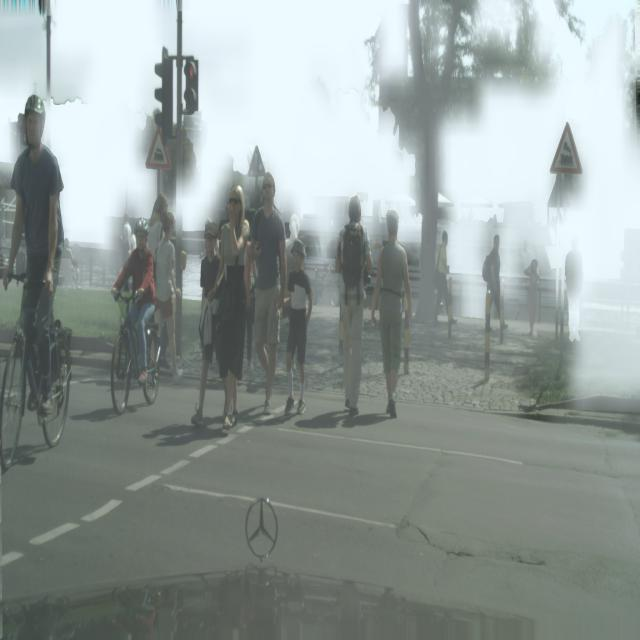car: (0, 87, 72, 471), (110, 288, 160, 414)
person: (211, 184, 251, 429), (249, 171, 288, 413), (334, 194, 374, 416), (371, 209, 413, 420), (111, 218, 156, 382), (192, 221, 222, 425), (283, 240, 313, 413), (154, 212, 182, 381), (483, 234, 505, 336), (434, 229, 456, 329), (565, 234, 584, 342), (147, 192, 168, 263), (526, 259, 540, 338)
